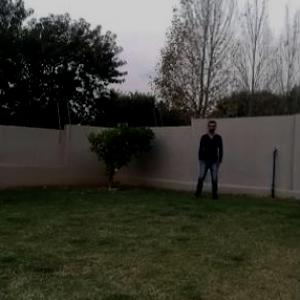follow: (202, 123, 220, 192)
